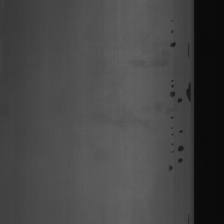oil_spot: (173, 127, 186, 173), (166, 120, 176, 172), (167, 18, 180, 52), (166, 77, 179, 100), (183, 76, 193, 103), (186, 35, 190, 60), (186, 209, 190, 224)
